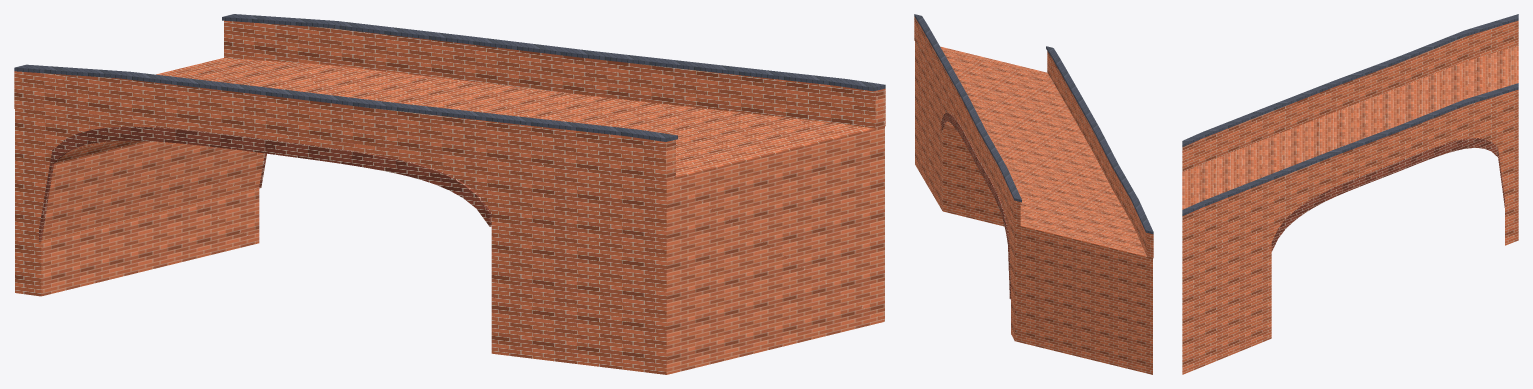
Rendered from bridge-4.glb.
3 views of the same model, side by side, from view 1: azimuth 30°, elevation 25°; view 2: azimuth 150°, elevation 25°; view 3: azimuth 270°, elevation 25° (orthographic). The views are drawn at different scales.
Parts seen in each view (by area): view 1: Masonry, Parapet.001, ArchRing; view 2: Masonry, Parapet.001, ArchRing; view 3: Masonry, Parapet.001, ArchRing.
Part boxes in pixels (box(x1,y1,x2,y2)): Masonry: box(14, 20, 885, 374); Parapet.001: box(14, 14, 885, 141); ArchRing: box(39, 126, 491, 241); Masonry: box(914, 17, 1153, 374); Parapet.001: box(914, 14, 1153, 234); ArchRing: box(941, 112, 1010, 299); Masonry: box(1182, 20, 1518, 374); Parapet.001: box(1182, 14, 1518, 216); ArchRing: box(1271, 138, 1504, 251).
Bounding box in the file's own units: 21.47 × 7.81 × 14.7.
3 materials, 3 textured.
